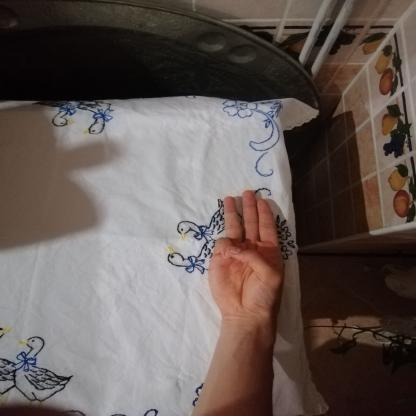THA: (189, 183, 302, 326)
